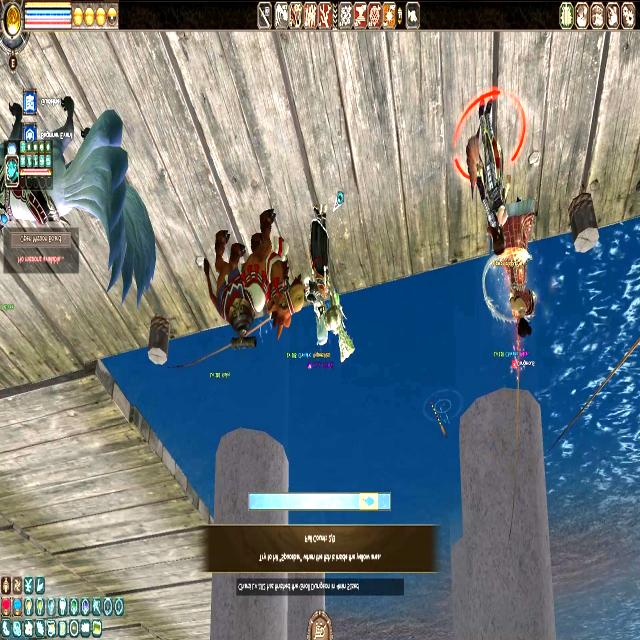fishes: (361, 493, 377, 509)
